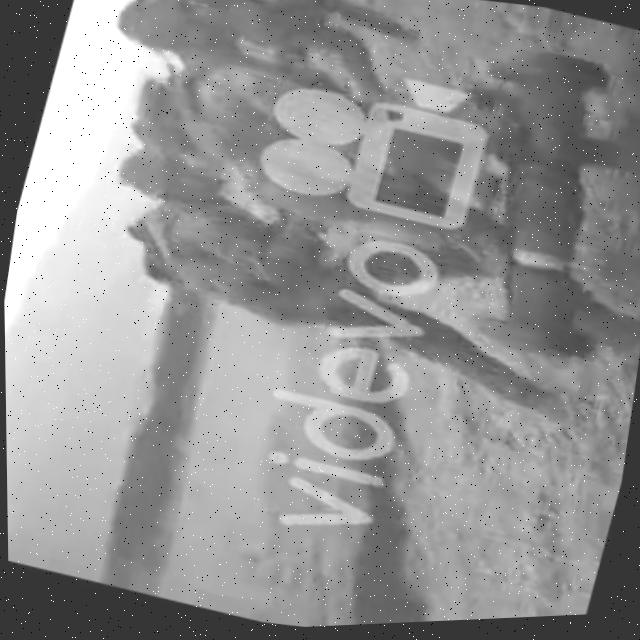rocket: (427, 37, 640, 387)
